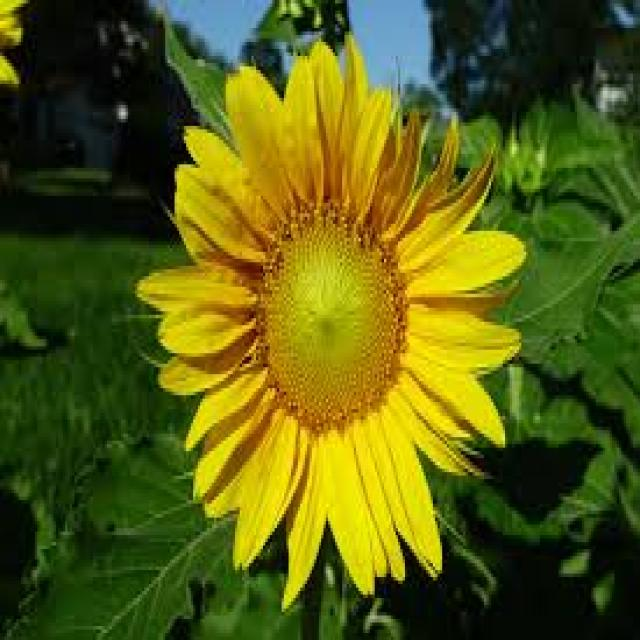sunflower: (132, 29, 535, 622), (0, 0, 32, 87)
